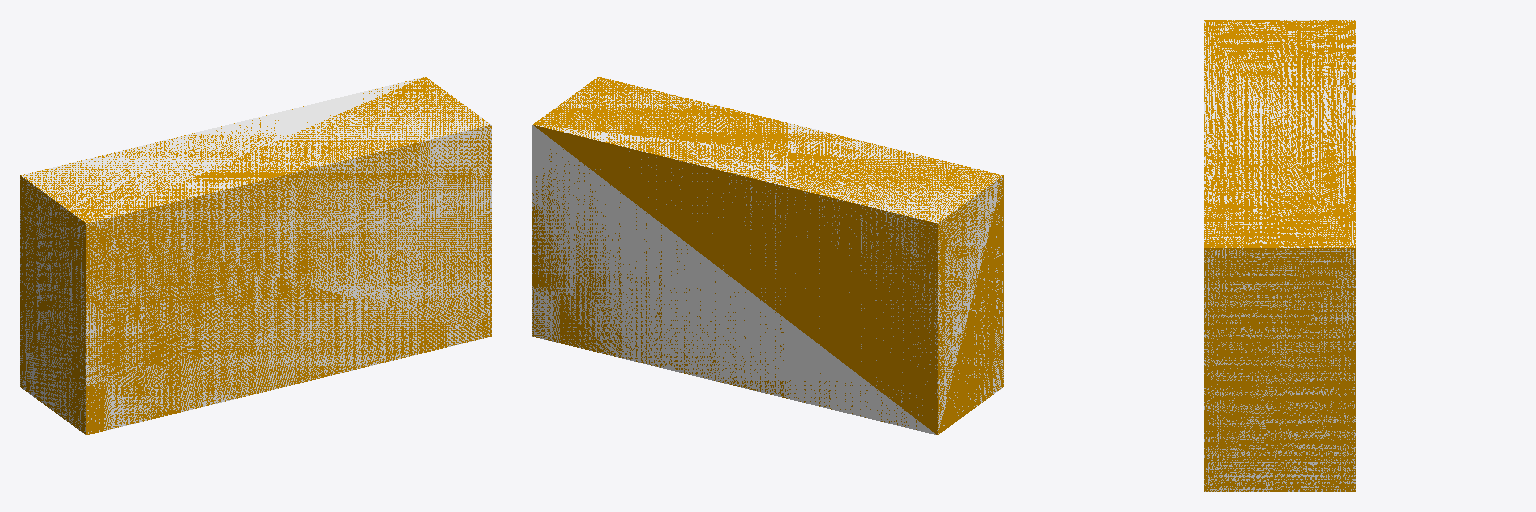
robot.urdf — my_object:
<?xml version="1.0" ?> 
<robot name="my_object" static="true">
  <link name="base_link">
  <inertial>
    <mass value="1.0" />
    <origin xyz="0 0 0.0" />
    <inertia ixx="1.0" ixy="0.0" ixz="0.0" iyy="1.0" iyz="0.0" izz="1.0"/>
  </inertial>
  <visual>
   <origin xyz="0 0 0.0" rpy="0 0 -1.570796327" />
   <geometry>
     <mesh filename="package://cob_gazebo_objects/Media/models/kitchen_big_cabinet.dae"/>
   </geometry>
  </visual>
  <collision>
   <origin xyz="0 0 0.4" rpy="0 0 0" />
   <geometry>
     <box size="1.6 0.45 0.80" />
   </geometry>
  </collision>     
  </link>

<gazebo>
	<static>true</static>
</gazebo>
</robot>

--- Facts derived from the render (not from the file) ---
3 views of the same robot in one strip: view 1: azimuth 30°, elevation 25°; view 2: azimuth 150°, elevation 25°; view 3: azimuth 270°, elevation 25° (orthographic).
Model my_object with 1 links and 0 joints (none), rooted at base_link, posed every joint at zero.
Links seen in each view (by area): view 1: base_link; view 2: base_link; view 3: base_link.
Link boxes in pixels (<box>): base_link: <box>20,77,491,434</box>; base_link: <box>532,77,1003,434</box>; base_link: <box>1204,20,1355,491</box>.
Bounding box of the posed robot: 0.0406 × 0.0114 × 0.0203 m (x, y, z).
1 mesh visuals loaded from 1 distinct referenced files (1 Collada DAE).